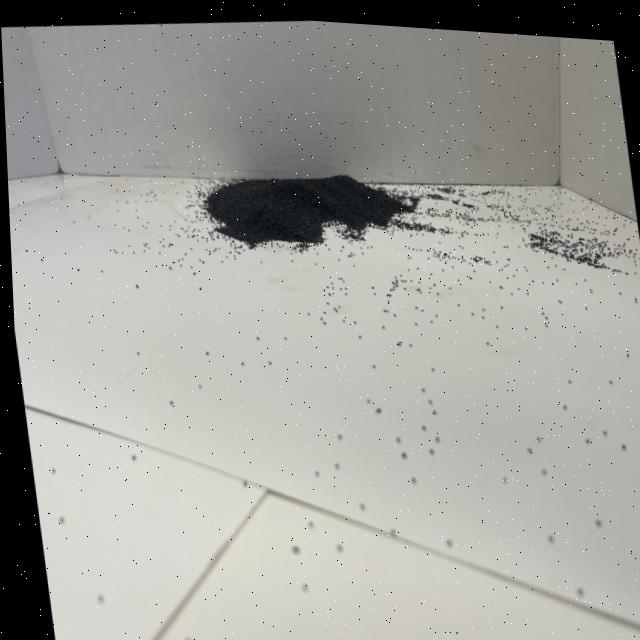Poppy Seeds: (199, 146, 425, 283)
